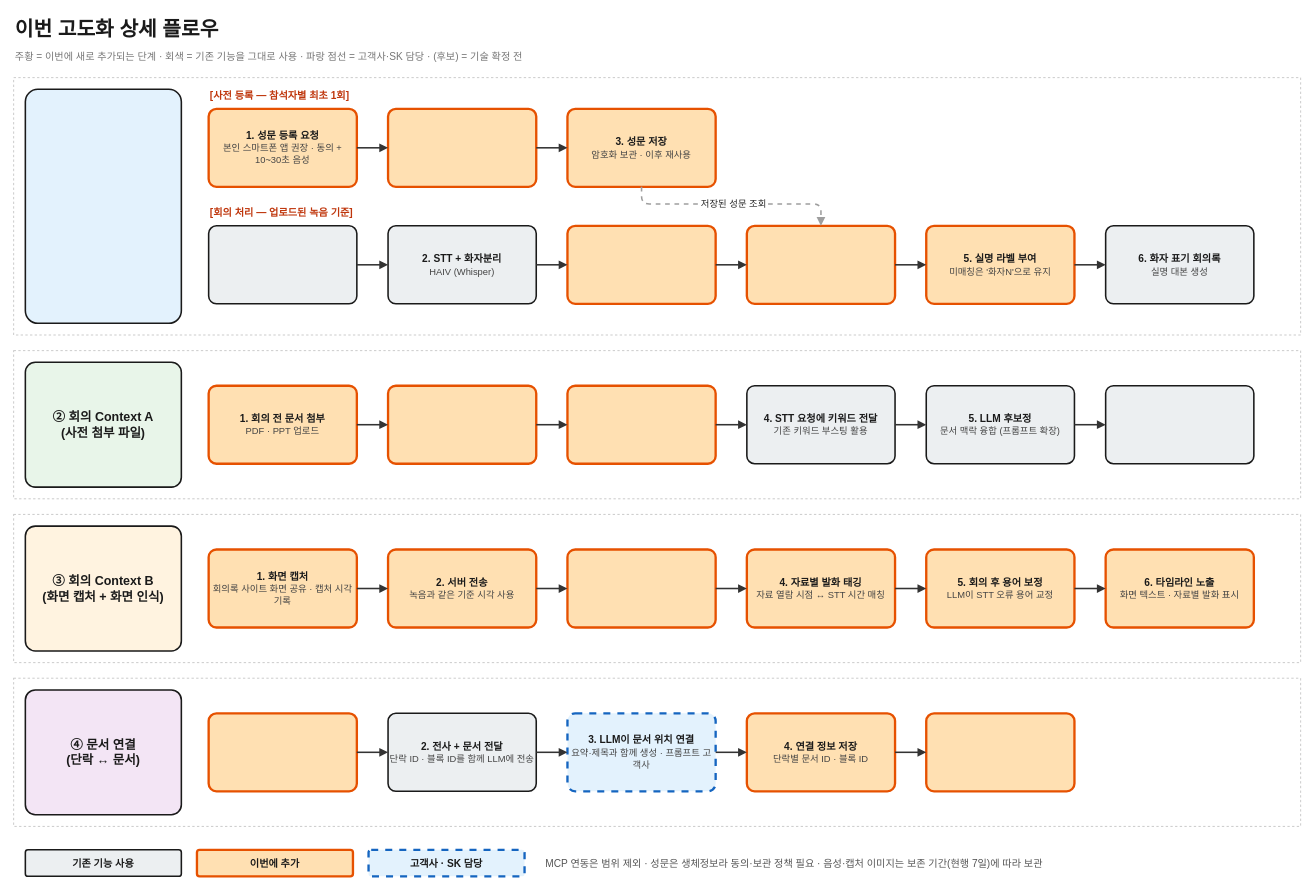
The diagram is 1314 pixels wide and 892 high, and some of its shapes have lost their labels. Each missing label, with the box of its shape:
1. 문서 파싱 md 변환 · 블록 ID 부여 (회의 전): (207, 712, 358, 792)
1. 음성 업로드 등록한 스마트폰으로 녹음 권장: (207, 225, 357, 304)
2. 텍스트·용어 추출 문서 파서: (386, 384, 537, 464)
2. 화자 임베딩 추출 3rd-party 모델 (후보): (386, 107, 537, 188)
3. 키워드 목록 생성 회의별 자동 생성: (566, 384, 716, 464)
3. 화면 텍스트 추출 한국어 OCR 또는 멀티모달 LLM (후보): (566, 548, 716, 628)
3. 화자별 임베딩 추출 구간마다 벡터 생성: (566, 224, 716, 305)
4. 등록 성문과 비교 참석자만 후보 · 임계값 적용: (745, 224, 896, 305)
5. 음성 기록에서 하이라이트 단락 클릭 → 문서 위치 표시: (925, 712, 1075, 792)
6. 요약 회의록 (선택) 문서 맥락 반영: (1104, 385, 1254, 464)
① 화자 자동 인식 (성문 매칭): (24, 88, 182, 324)
